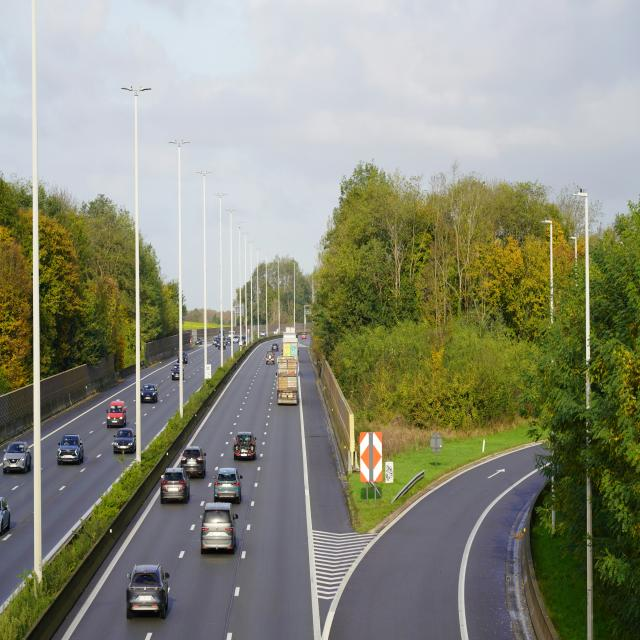Trucks: (277, 355, 297, 404), (283, 327, 297, 359)
